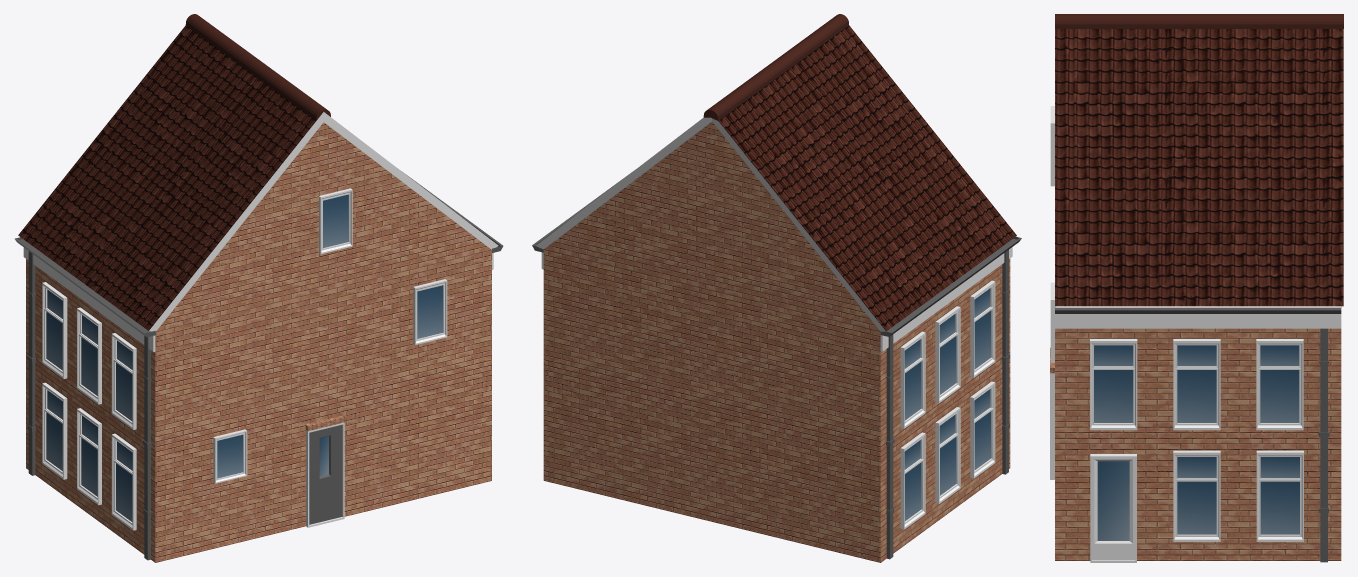
File: Buorkerij_49.fbx
The picture shows the model from 3 angles, left to right: view 1: azimuth 30°, elevation 25°; view 2: azimuth 150°, elevation 25°; view 3: azimuth 270°, elevation 25°; orthographic projection. The views are drawn at different scales.
Visible parts, largest first — view 1: Buorkerij_49; view 2: Buorkerij_49; view 3: Buorkerij_49.
Boxes of the visible parts, bbox=[...] form: Buorkerij_49: bbox=[15, 14, 503, 562]; Buorkerij_49: bbox=[532, 14, 1021, 562]; Buorkerij_49: bbox=[1050, 14, 1343, 562].
Size of the model in its own units: 9.29 by 10.18 by 5.95.
